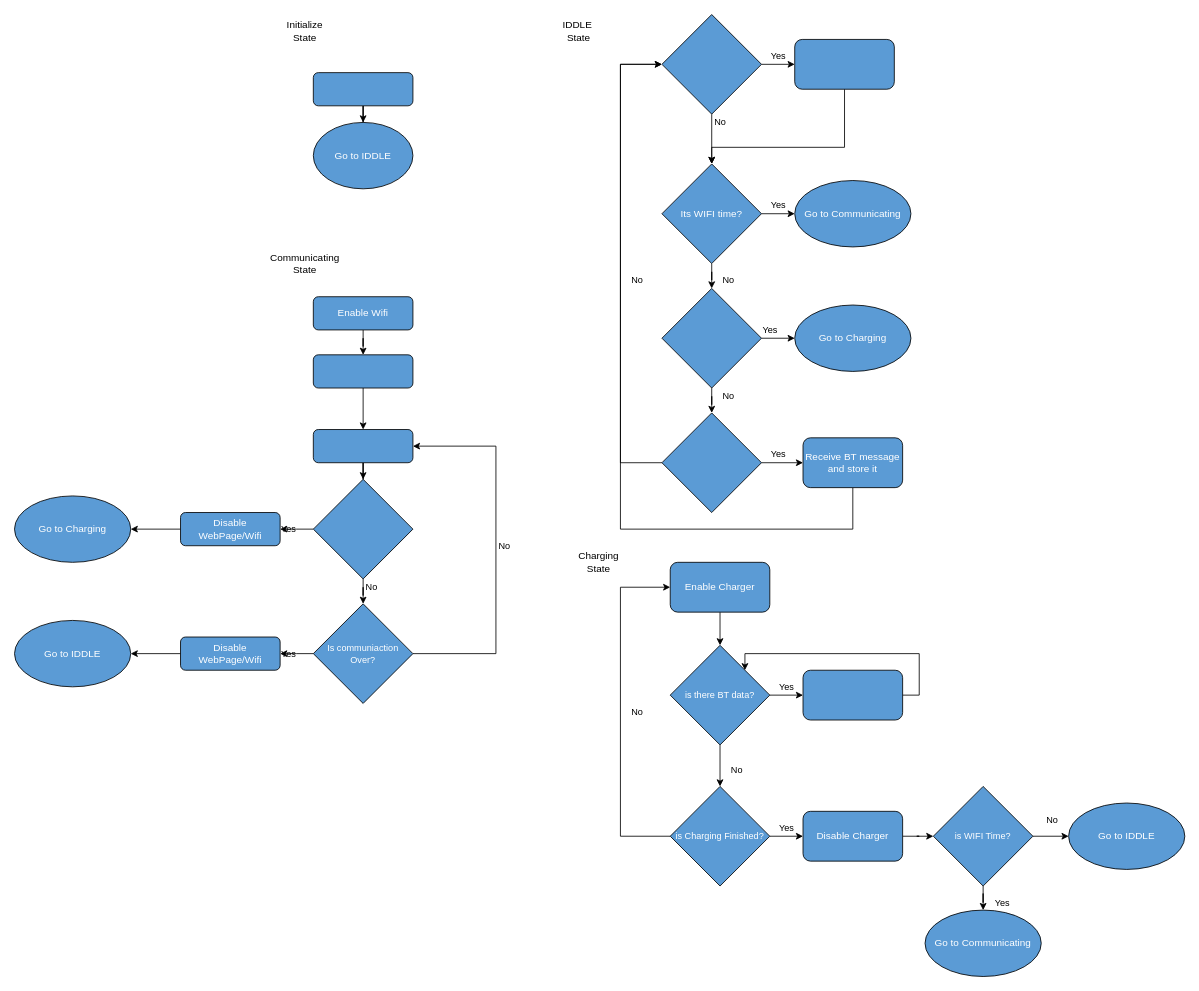
This 1199x991 diagram has some shape labels left out. The centre of each missing label's shape, as x and y in pixels:
Enable WebPage: the point at 362,371
Initialize all drivers: the point at 362,89
is Charging needed?: the point at 362,528
Its sensing Time?: the point at 711,64
Receive Data: the point at 852,694
Receive/Send data: the point at 362,446
Record Sensors and save them in DB: the point at 844,64
The bird need communication?: the point at 711,462
There is charging to do?: the point at 711,338
